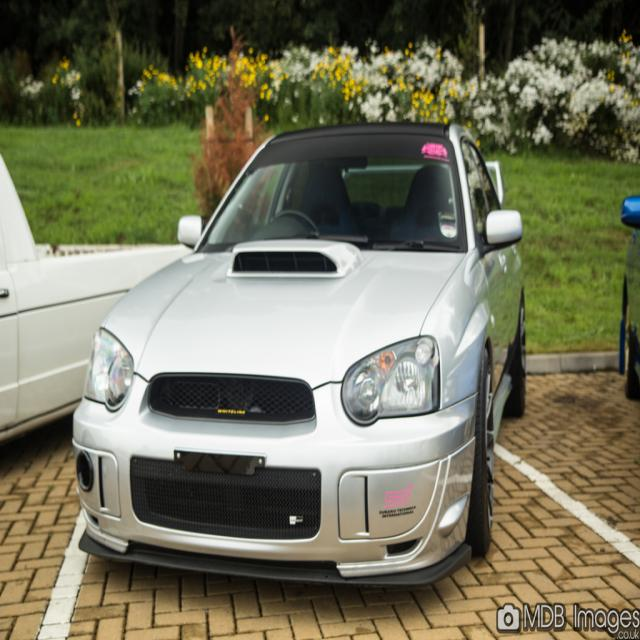car: (68, 116, 521, 589)
